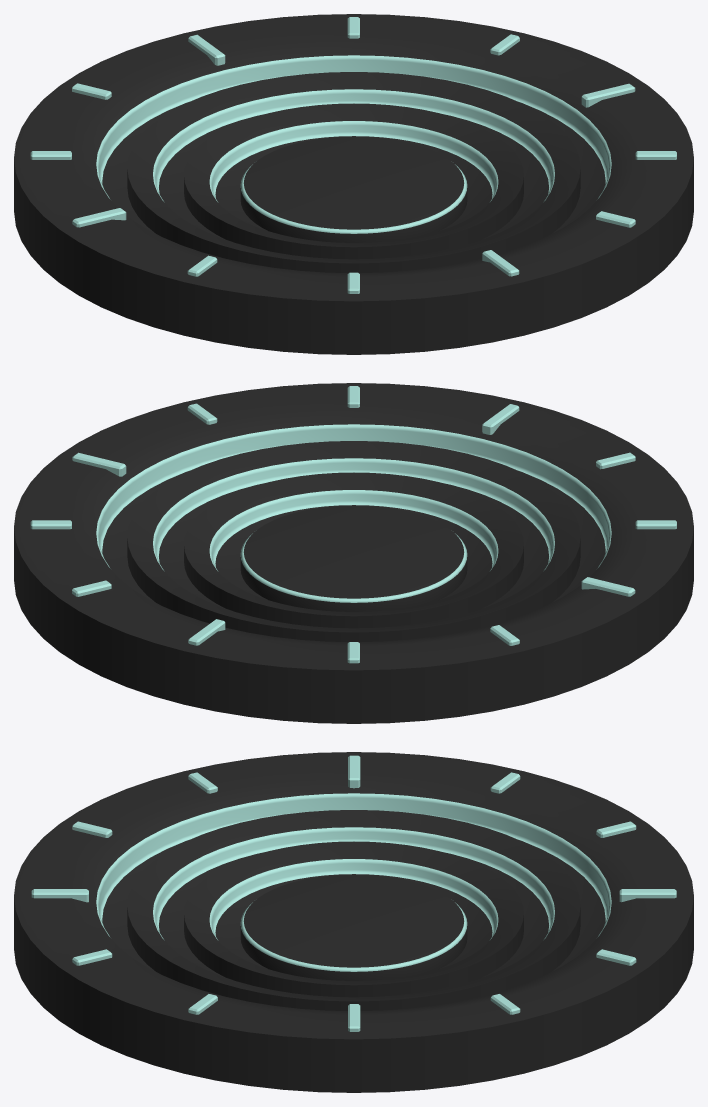
Rendered from Watch_fbx.fbx.
3 renders of one model, top to bottom at view 1: azimuth 30°, elevation 25°; view 2: azimuth 150°, elevation 25°; view 3: azimuth 270°, elevation 25°, orthographic.
Parts seen in each view (by area): view 1: pCylinder2; view 2: pCylinder2; view 3: pCylinder2.
Part boxes in pixels (bbox=[...]): pCylinder2: bbox=[14, 14, 693, 354]; pCylinder2: bbox=[14, 383, 693, 723]; pCylinder2: bbox=[14, 752, 693, 1092].
Bounding box in the file's own units: 5.99 × 0.5679 × 5.99.
